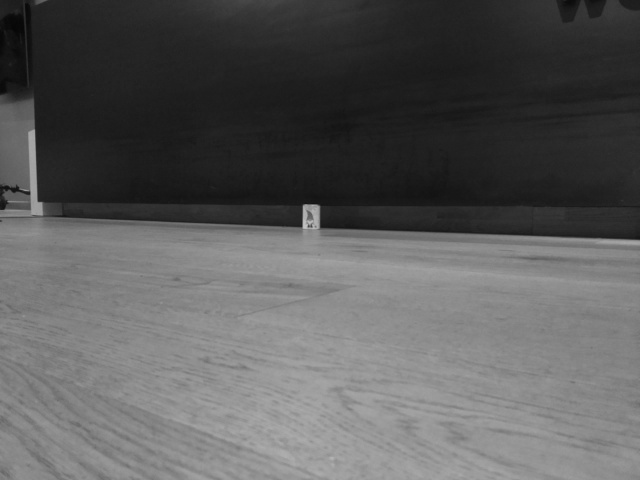gnome: (303, 209, 319, 228)
